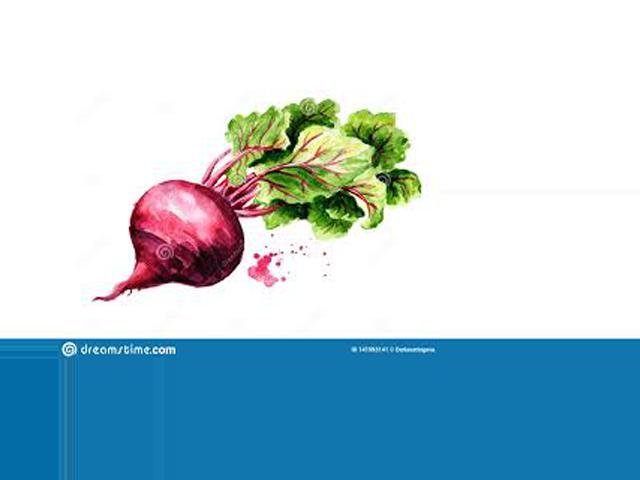beet: (94, 98, 423, 302)
